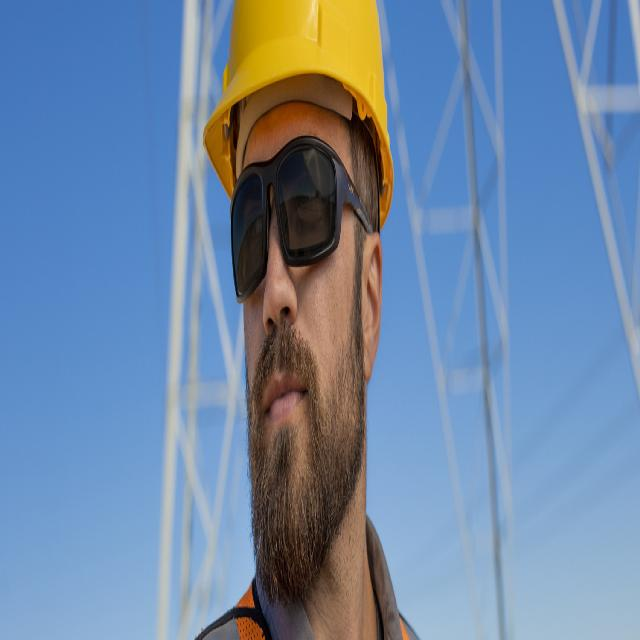goggles: (230, 129, 374, 312)
helmet: (199, 0, 396, 241)
